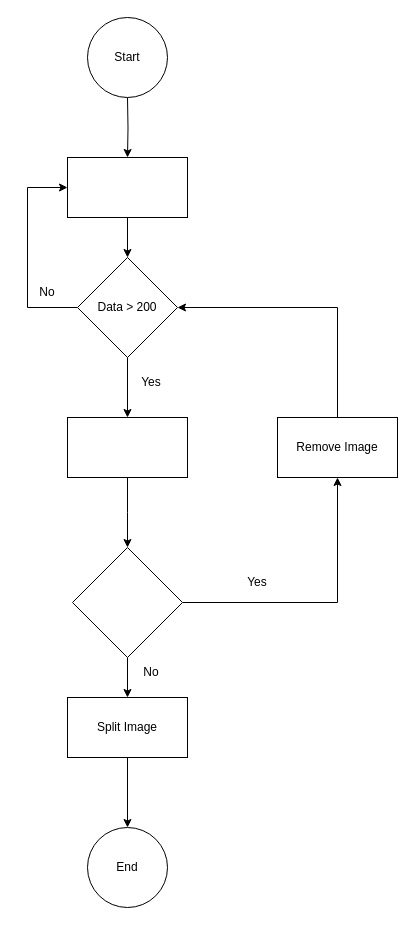
Image size: 415x925. Some labels were removed from this diagram. The shapes that lost their labels are listed below. From the top down, each one's centre as x and y in pixels, then its label:
point 127,187: Scrap Image
point 127,447: Inspect Image
point 127,602: Image Mismatch
